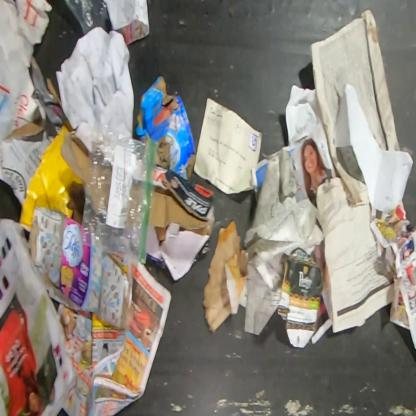cardboard: (28, 207, 134, 329), (0, 56, 67, 207), (145, 166, 214, 282), (136, 76, 196, 180), (276, 247, 324, 348), (58, 134, 90, 196)
soft_plastic: (82, 121, 158, 268), (63, 0, 108, 31)
